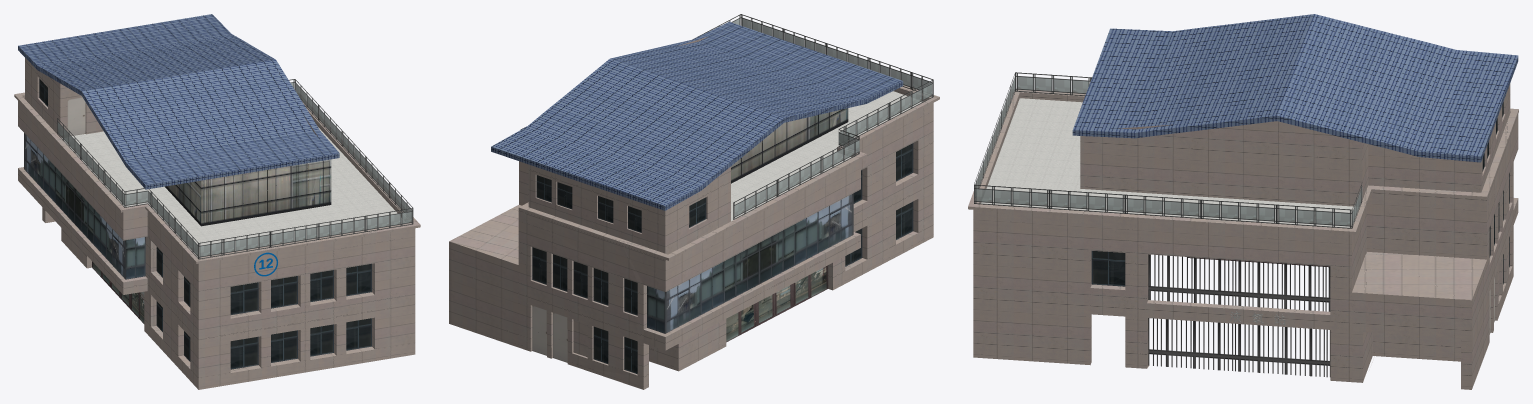
3 renders of one model, left to right at view 1: azimuth 30°, elevation 25°; view 2: azimuth 150°, elevation 25°; view 3: azimuth 270°, elevation 25°, orthographic. The views are drawn at different scales.
Parts seen in each view (by area): view 1: 12号楼; view 2: 12号楼; view 3: 12号楼.
Part boxes in pixels (left/top/right/bottom): 12号楼: left=14, top=14, right=420, bottom=389; 12号楼: left=449, top=14, right=939, bottom=389; 12号楼: left=968, top=14, right=1518, bottom=389.
Size of the model in its own units: 20.57 by 14.82 by 31.3.
12 materials, 11 textured.
